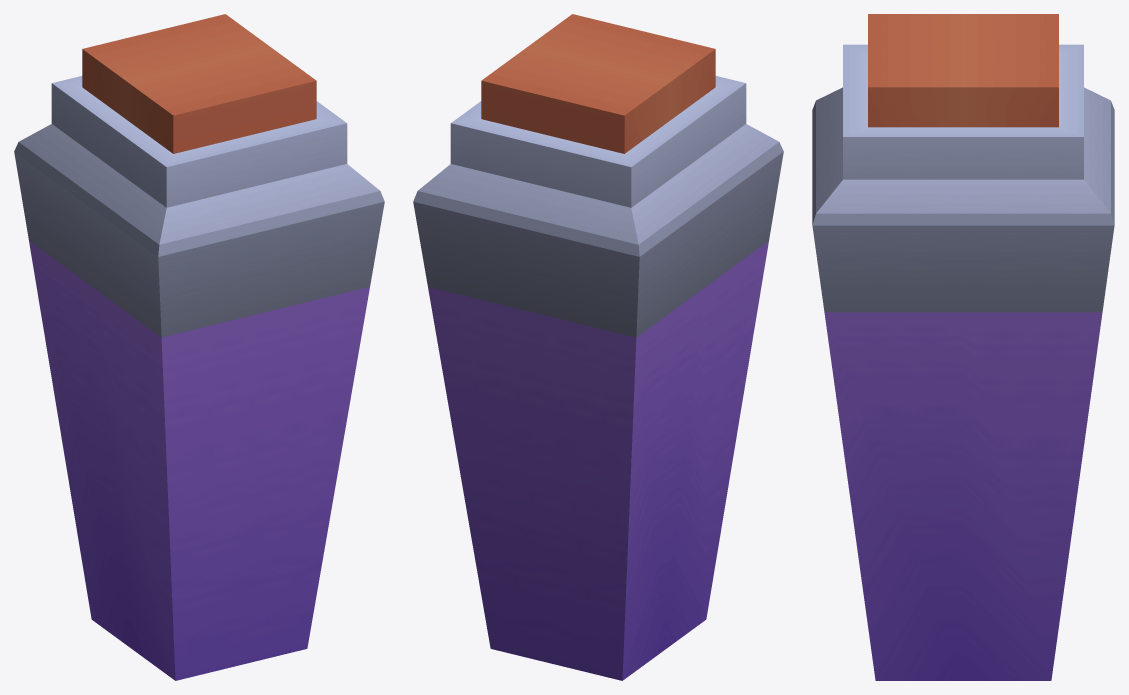
The model's file is potion2.glb.
The picture shows the model from 3 angles, left to right: view 1: azimuth 30°, elevation 25°; view 2: azimuth 150°, elevation 25°; view 3: azimuth 270°, elevation 25°; orthographic projection. The views are drawn at different scales.
Visible parts, largest first — view 1: Potion2; view 2: Potion2; view 3: Potion2.
Part boxes in pixels (x1,y1,x2,y2): Potion2: [14, 14, 384, 680]; Potion2: [413, 14, 783, 680]; Potion2: [812, 14, 1114, 680].
Bounding box in the file's own units: 0.175 × 0.4202 × 0.1929.
Materials: 1 (1 with a texture image).
